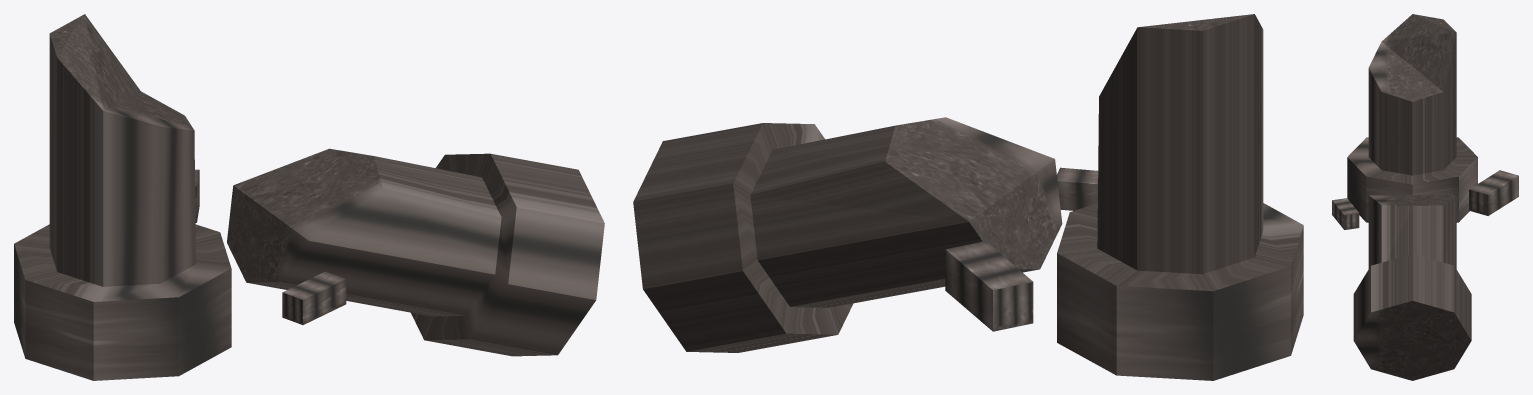
File: brokenColumn.fbx
3 renders of one model, left to right at view 1: azimuth 30°, elevation 25°; view 2: azimuth 150°, elevation 25°; view 3: azimuth 270°, elevation 25°, orthographic. The views are drawn at different scales.
Parts seen in each view (by area): view 1: broken_column; view 2: broken_column; view 3: broken_column.
Boxes of the visible parts, x1=… form: broken_column: x1=14, y1=14, x2=604, y2=380; broken_column: x1=633, y1=14, x2=1303, y2=380; broken_column: x1=1332, y1=14, x2=1518, y2=380.
Size of the model in its own units: 22.54 by 15.95 by 11.36.
